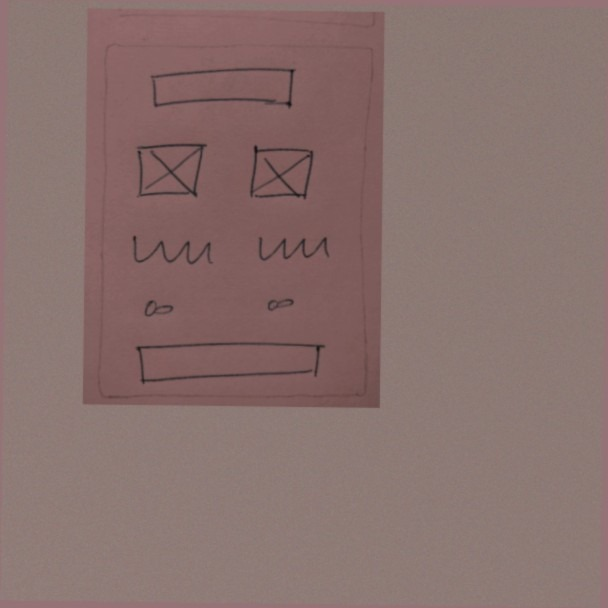image: (127, 135, 212, 206), (243, 138, 317, 206)
switch: (134, 293, 181, 324), (258, 286, 303, 316)
text: (124, 230, 222, 275), (252, 230, 336, 270)
text_input: (125, 334, 327, 388), (143, 63, 301, 114)
